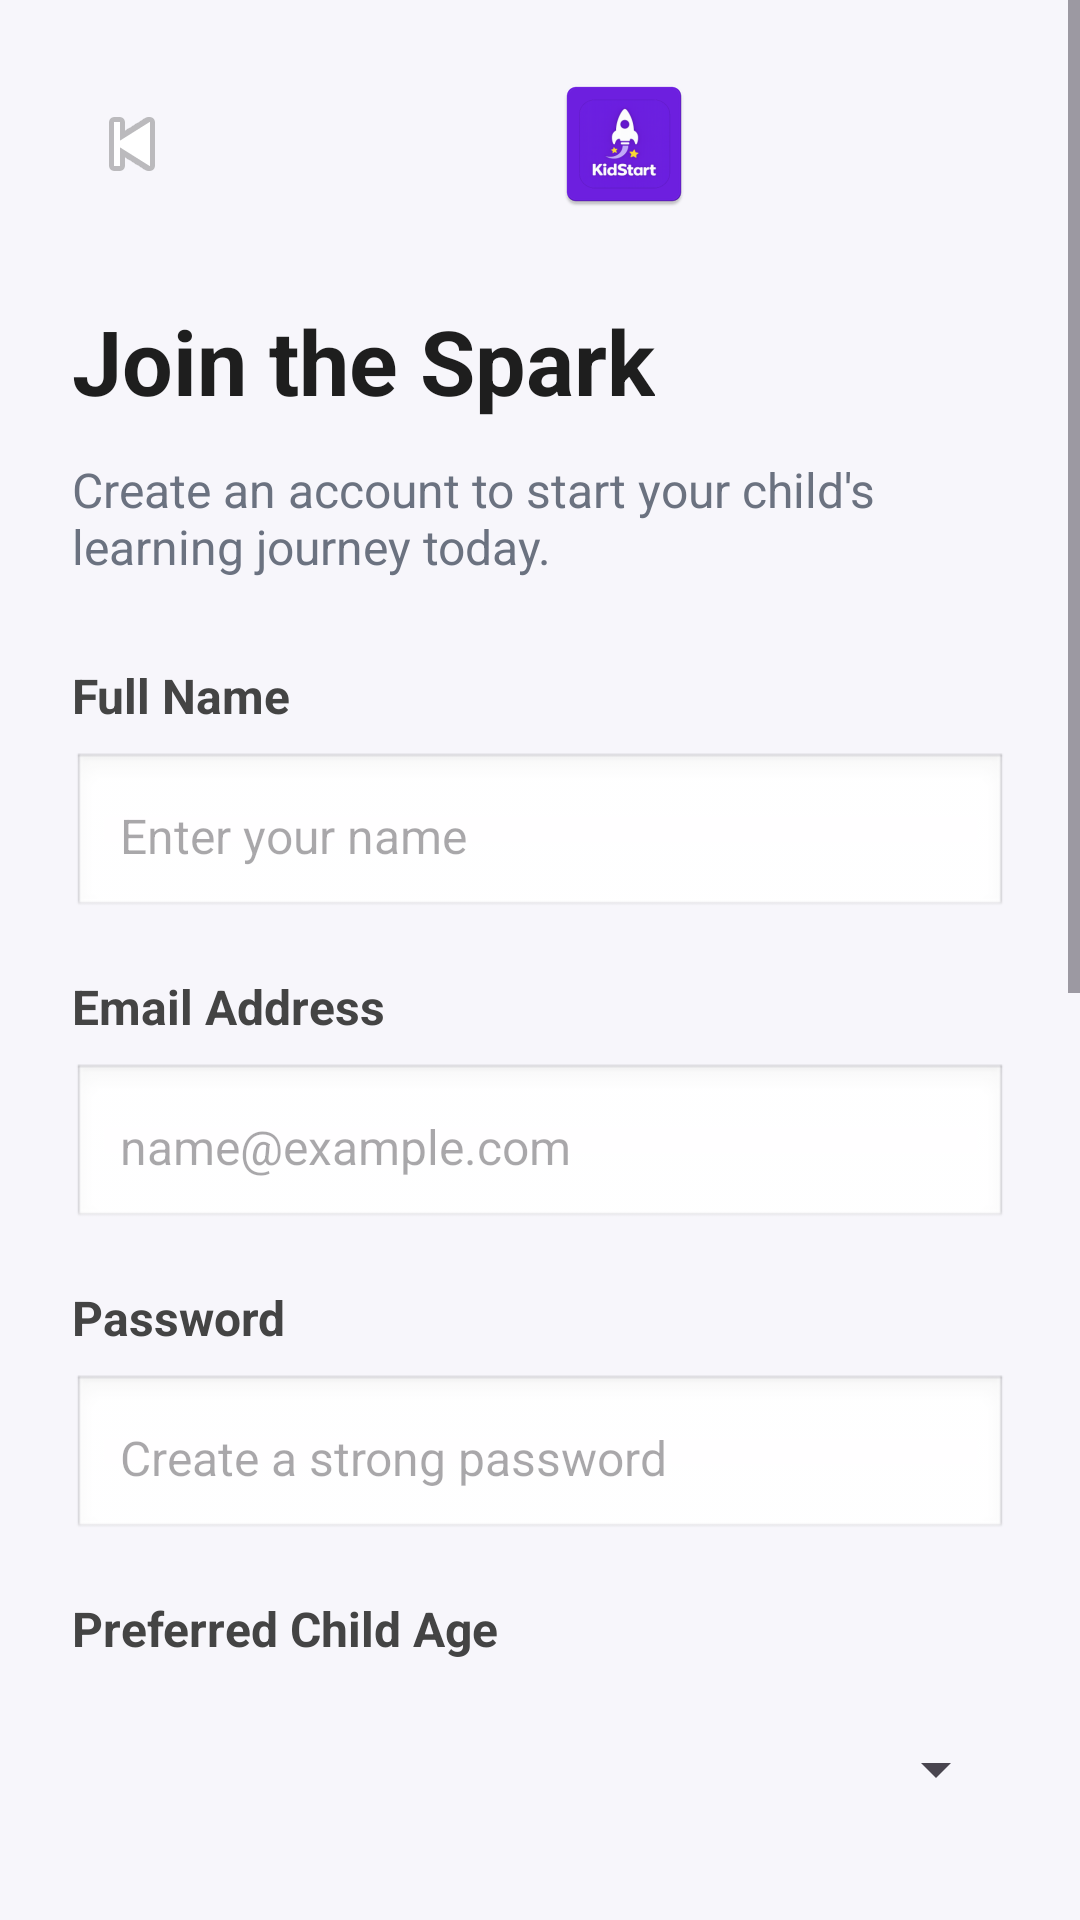

Where icons sit on this 1080px×1920px app screen, as (x1, y1, x2, y2):
back: (109, 117, 155, 171)
